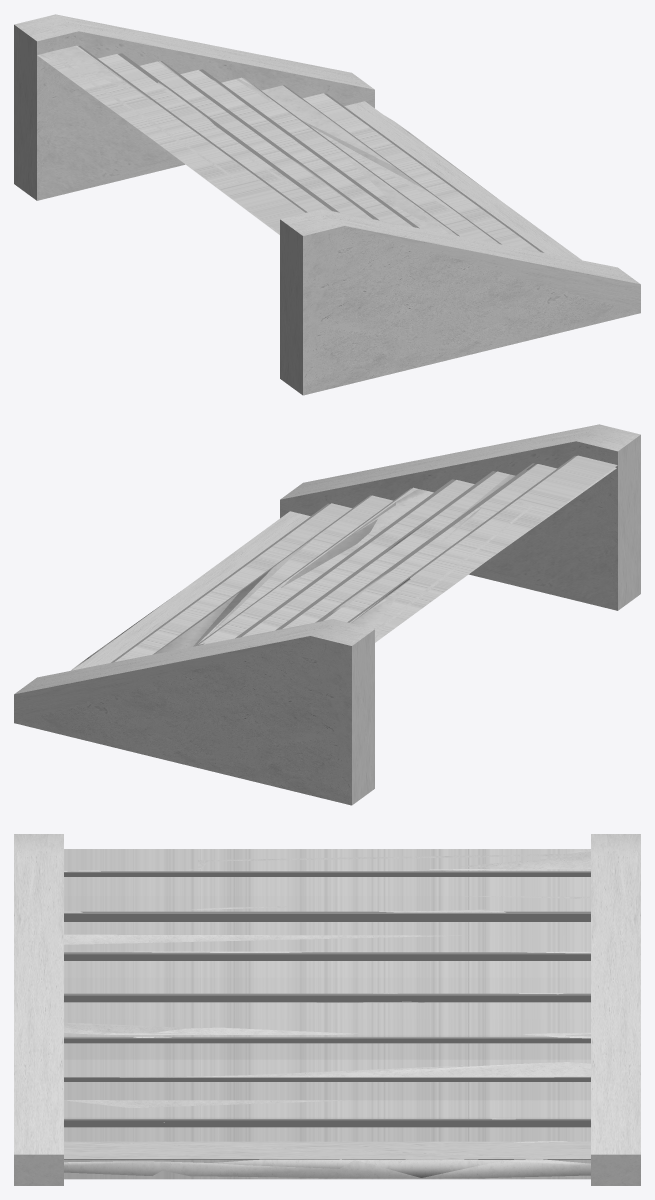
Rendered from si_helipad_stairs.DAE.
3 renders of one model, top to bottom at view 1: azimuth 30°, elevation 25°; view 2: azimuth 150°, elevation 25°; view 3: azimuth 270°, elevation 25°, orthographic. The views are drawn at different scales.
Parts seen in each view (by area): view 1: Colmesh-1, si_helipad_stairs120, si_helipad_stairs50, si_helipad_stairs80; view 2: Colmesh-1, si_helipad_stairs50, si_helipad_stairs120, si_helipad_stairs80; view 3: Colmesh-1, si_helipad_stairs50, si_helipad_stairs120, si_helipad_stairs80.
Boxes of the visible parts, x1,y1,x2,y2 form: Colmesh-1: (14,14,640,395); si_helipad_stairs120: (42,46,504,244); si_helipad_stairs50: (78,45,543,252); si_helipad_stairs80: (39,54,496,235); Colmesh-1: (14,424,640,805); si_helipad_stairs50: (111,455,575,662); si_helipad_stairs120: (71,456,616,670); si_helipad_stairs80: (87,463,616,659); Colmesh-1: (14,834,640,1185); si_helipad_stairs50: (64,871,590,1159); si_helipad_stairs120: (64,851,590,1178); si_helipad_stairs80: (64,850,590,1177).
Bounding box in the file's own units: 413 × 612 × 186.
